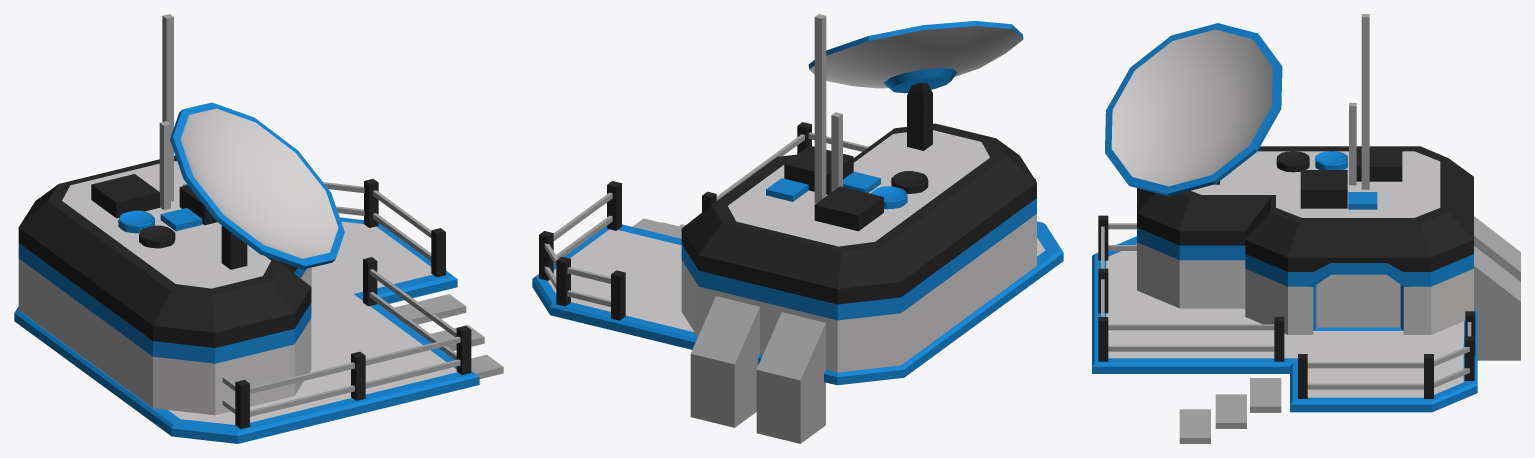
Rendered from Center.fbx.
3 renders of one model, left to right at view 1: azimuth 30°, elevation 25°; view 2: azimuth 150°, elevation 25°; view 3: azimuth 270°, elevation 25°, orthographic. The views are drawn at different scales.
Parts seen in each view (by area): view 1: Build, Base, Radar, Cellular5, Cellular6L, FW6, FW5, LadderL1, Cellular4, FenceR, FW4, Cellular8 (+13 smaller); view 2: Build, Base, Radar, ENL2, ENL1, Cellular6L, Cellular5, FenceR, Cellular1, Cellular4, Fence8, Cellular2 (+9 smaller); view 3: Build, Base, Radar, ENL1, Cellular1, Cellular6L, ENL2, Cellular5, FW3, FW4, LadderL1, LadderL2 (+12 smaller).
Part boxes in pixels (x1=…): Build: x1=18, y1=155, x2=311, y2=415; Base: x1=14, y1=217, x2=479, y2=443; Radar: x1=170, y1=102, x2=344, y2=269; Cellular5: x1=91, y1=174, x2=159, y2=218; Cellular6L: x1=162, y1=14, x2=173, y2=201; FW6: x1=250, y1=336, x2=460, y2=393; FW5: x1=250, y1=359, x2=460, y2=416; LadderL1: x1=394, y1=294, x2=466, y2=324; Cellular4: x1=159, y1=121, x2=170, y2=209; FenceR: x1=221, y1=225, x2=247, y2=269; FW4: x1=369, y1=269, x2=456, y2=337; Cellular8: x1=139, y1=225, x2=175, y2=248; Build: x1=681, y1=123, x2=1036, y2=372; Base: x1=532, y1=221, x2=1063, y2=385; Radar: x1=808, y1=21, x2=1023, y2=93; ENL2: x1=756, y1=312, x2=825, y2=443; ENL1: x1=690, y1=296, x2=759, y2=427; Cellular6L: x1=814, y1=14, x2=826, y2=203; Cellular5: x1=814, y1=186, x2=883, y2=231; FenceR: x1=907, y1=82, x2=932, y2=150; Cellular1: x1=784, y1=145, x2=853, y2=194; Cellular4: x1=831, y1=112, x2=842, y2=192; Fence8: x1=611, y1=270, x2=625, y2=320; Cellular2: x1=766, y1=178, x2=808, y2=201; Build: x1=1137, y1=146, x2=1473, y2=334; Base: x1=1092, y1=236, x2=1477, y2=412; Radar: x1=1105, y1=23, x2=1282, y2=196; ENL1: x1=1474, y1=246, x2=1520, y2=360; Cellular1: x1=1300, y1=170, x2=1347, y2=208; Cellular6L: x1=1361, y1=14, x2=1369, y2=189; ENL2: x1=1474, y1=216, x2=1520, y2=281; Cellular5: x1=1356, y1=147, x2=1402, y2=181; FW3: x1=1108, y1=345, x2=1274, y2=351; FW4: x1=1108, y1=324, x2=1274, y2=330; LadderL1: x1=1250, y1=378, x2=1281, y2=412; LadderL2: x1=1215, y1=394, x2=1246, y2=428.
Size of the model in its own units: 12.67 by 11.41 by 13.67.
